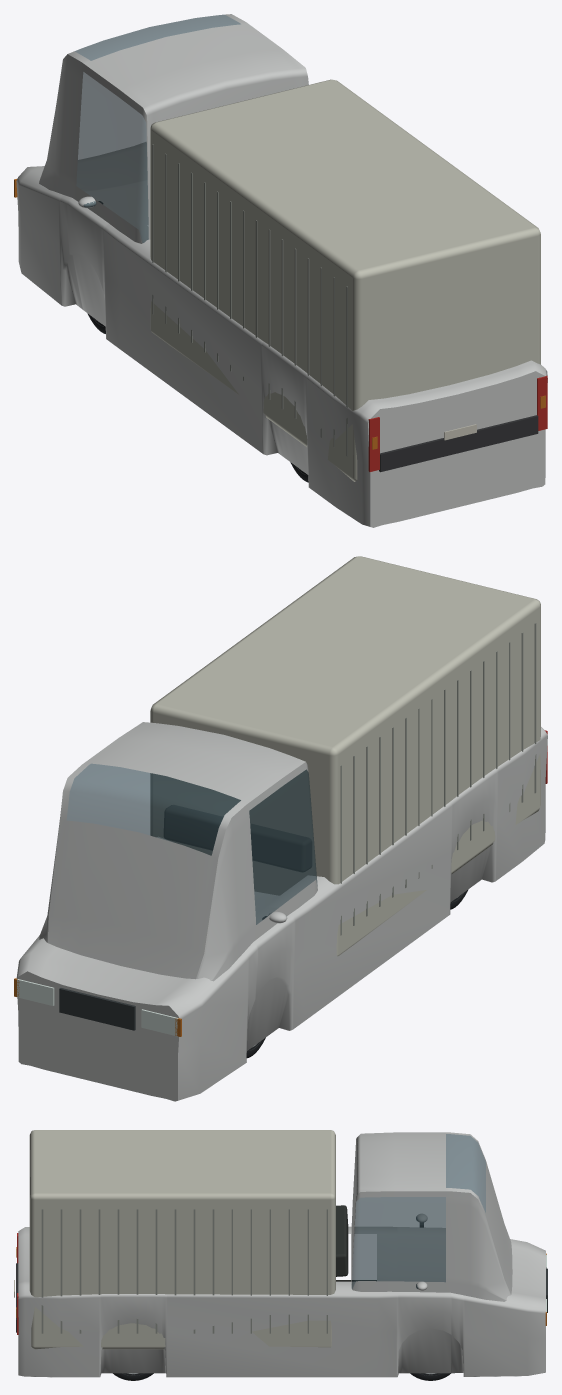
The model's file is coastal-freight.glb.
3 views of the same model, one above another, from view 1: azimuth 30°, elevation 25°; view 2: azimuth 150°, elevation 25°; view 3: azimuth 270°, elevation 25° (orthographic). The views are drawn at different scales.
Visible parts, largest first — view 1: trim, paint, glass, brake; view 2: paint, trim, glass, head; view 3: paint, trim, glass.
Boxes of the visible parts, box(x1,y1,x2,y2) form: trim: box(98, 79, 540, 481); paint: box(16, 14, 547, 527); glass: box(75, 14, 240, 242); brake: box(368, 375, 547, 471); paint: box(16, 722, 547, 1101); trim: box(59, 556, 540, 1030); glass: box(66, 763, 317, 924); head: box(17, 979, 178, 1036); paint: box(18, 1132, 545, 1377); trim: box(14, 1130, 547, 1349); glass: box(351, 1134, 485, 1288).
Bounding box in the file's own units: 2.56 × 3.18 × 7.79.
